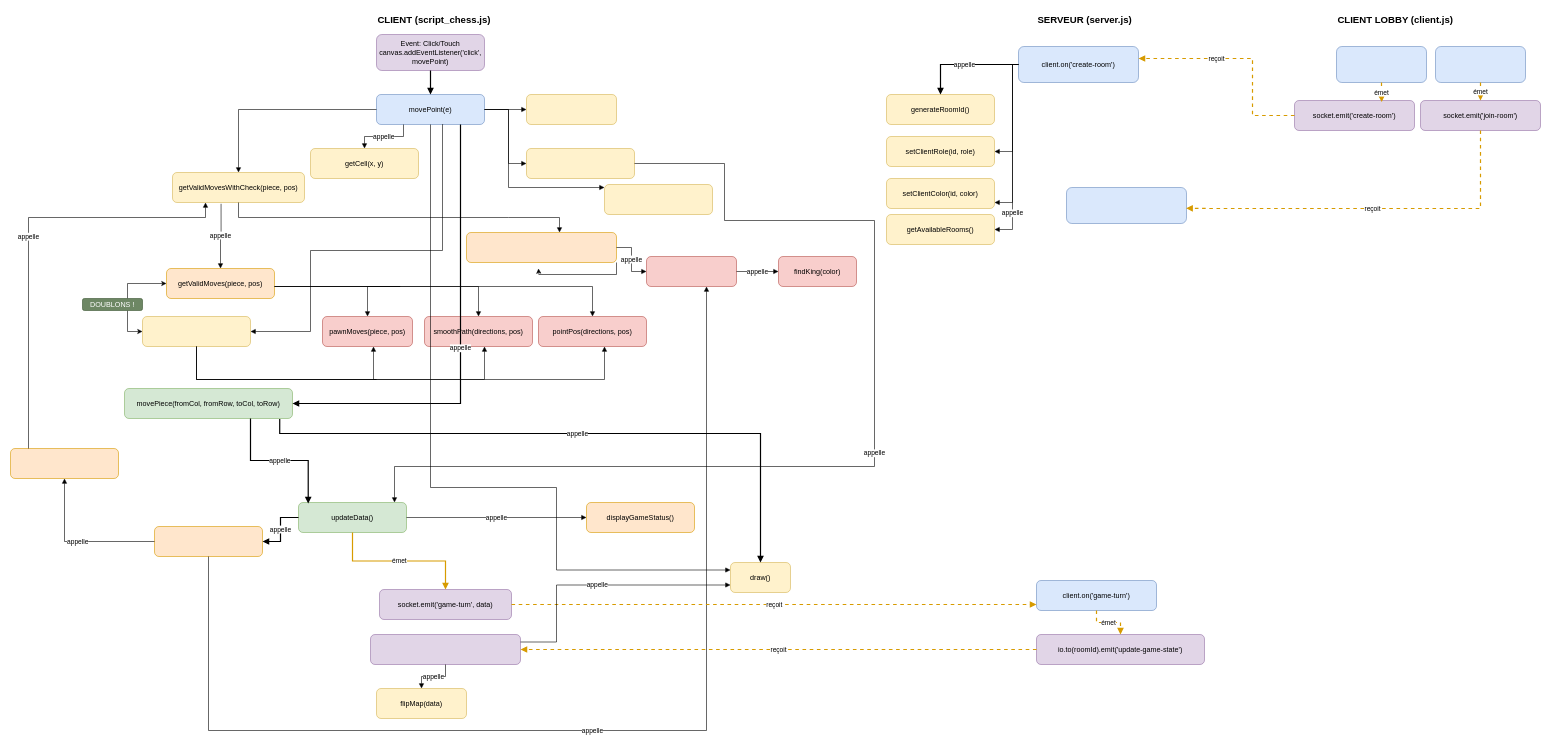
This 1551x746 diagram has some shape labels left out. The centre of each missing label's shape, as x and y in pixels:
"client.on('join-room')" goes at point (1126, 205).
"createRoom()" goes at point (1381, 64).
"getCellSelect(x, y)" goes at point (658, 199).
"hasValidMoves(color)" goes at point (64, 463).
"isKingInCheck(color)" goes at point (691, 271).
"isValidMove(col, row)" goes at point (571, 109).
"joinRoom(roomId)" goes at point (1480, 64).
"selectNewPawn(pos, L)" goes at point (580, 163).
"showMoves(piece, pos)" goes at point (196, 331).
"socket.on('update-game-state')" goes at point (445, 649).
"updateGameStatus()" goes at point (208, 541).
"wouldMovePutKingInCheck(from, to, color)" goes at point (541, 247).
